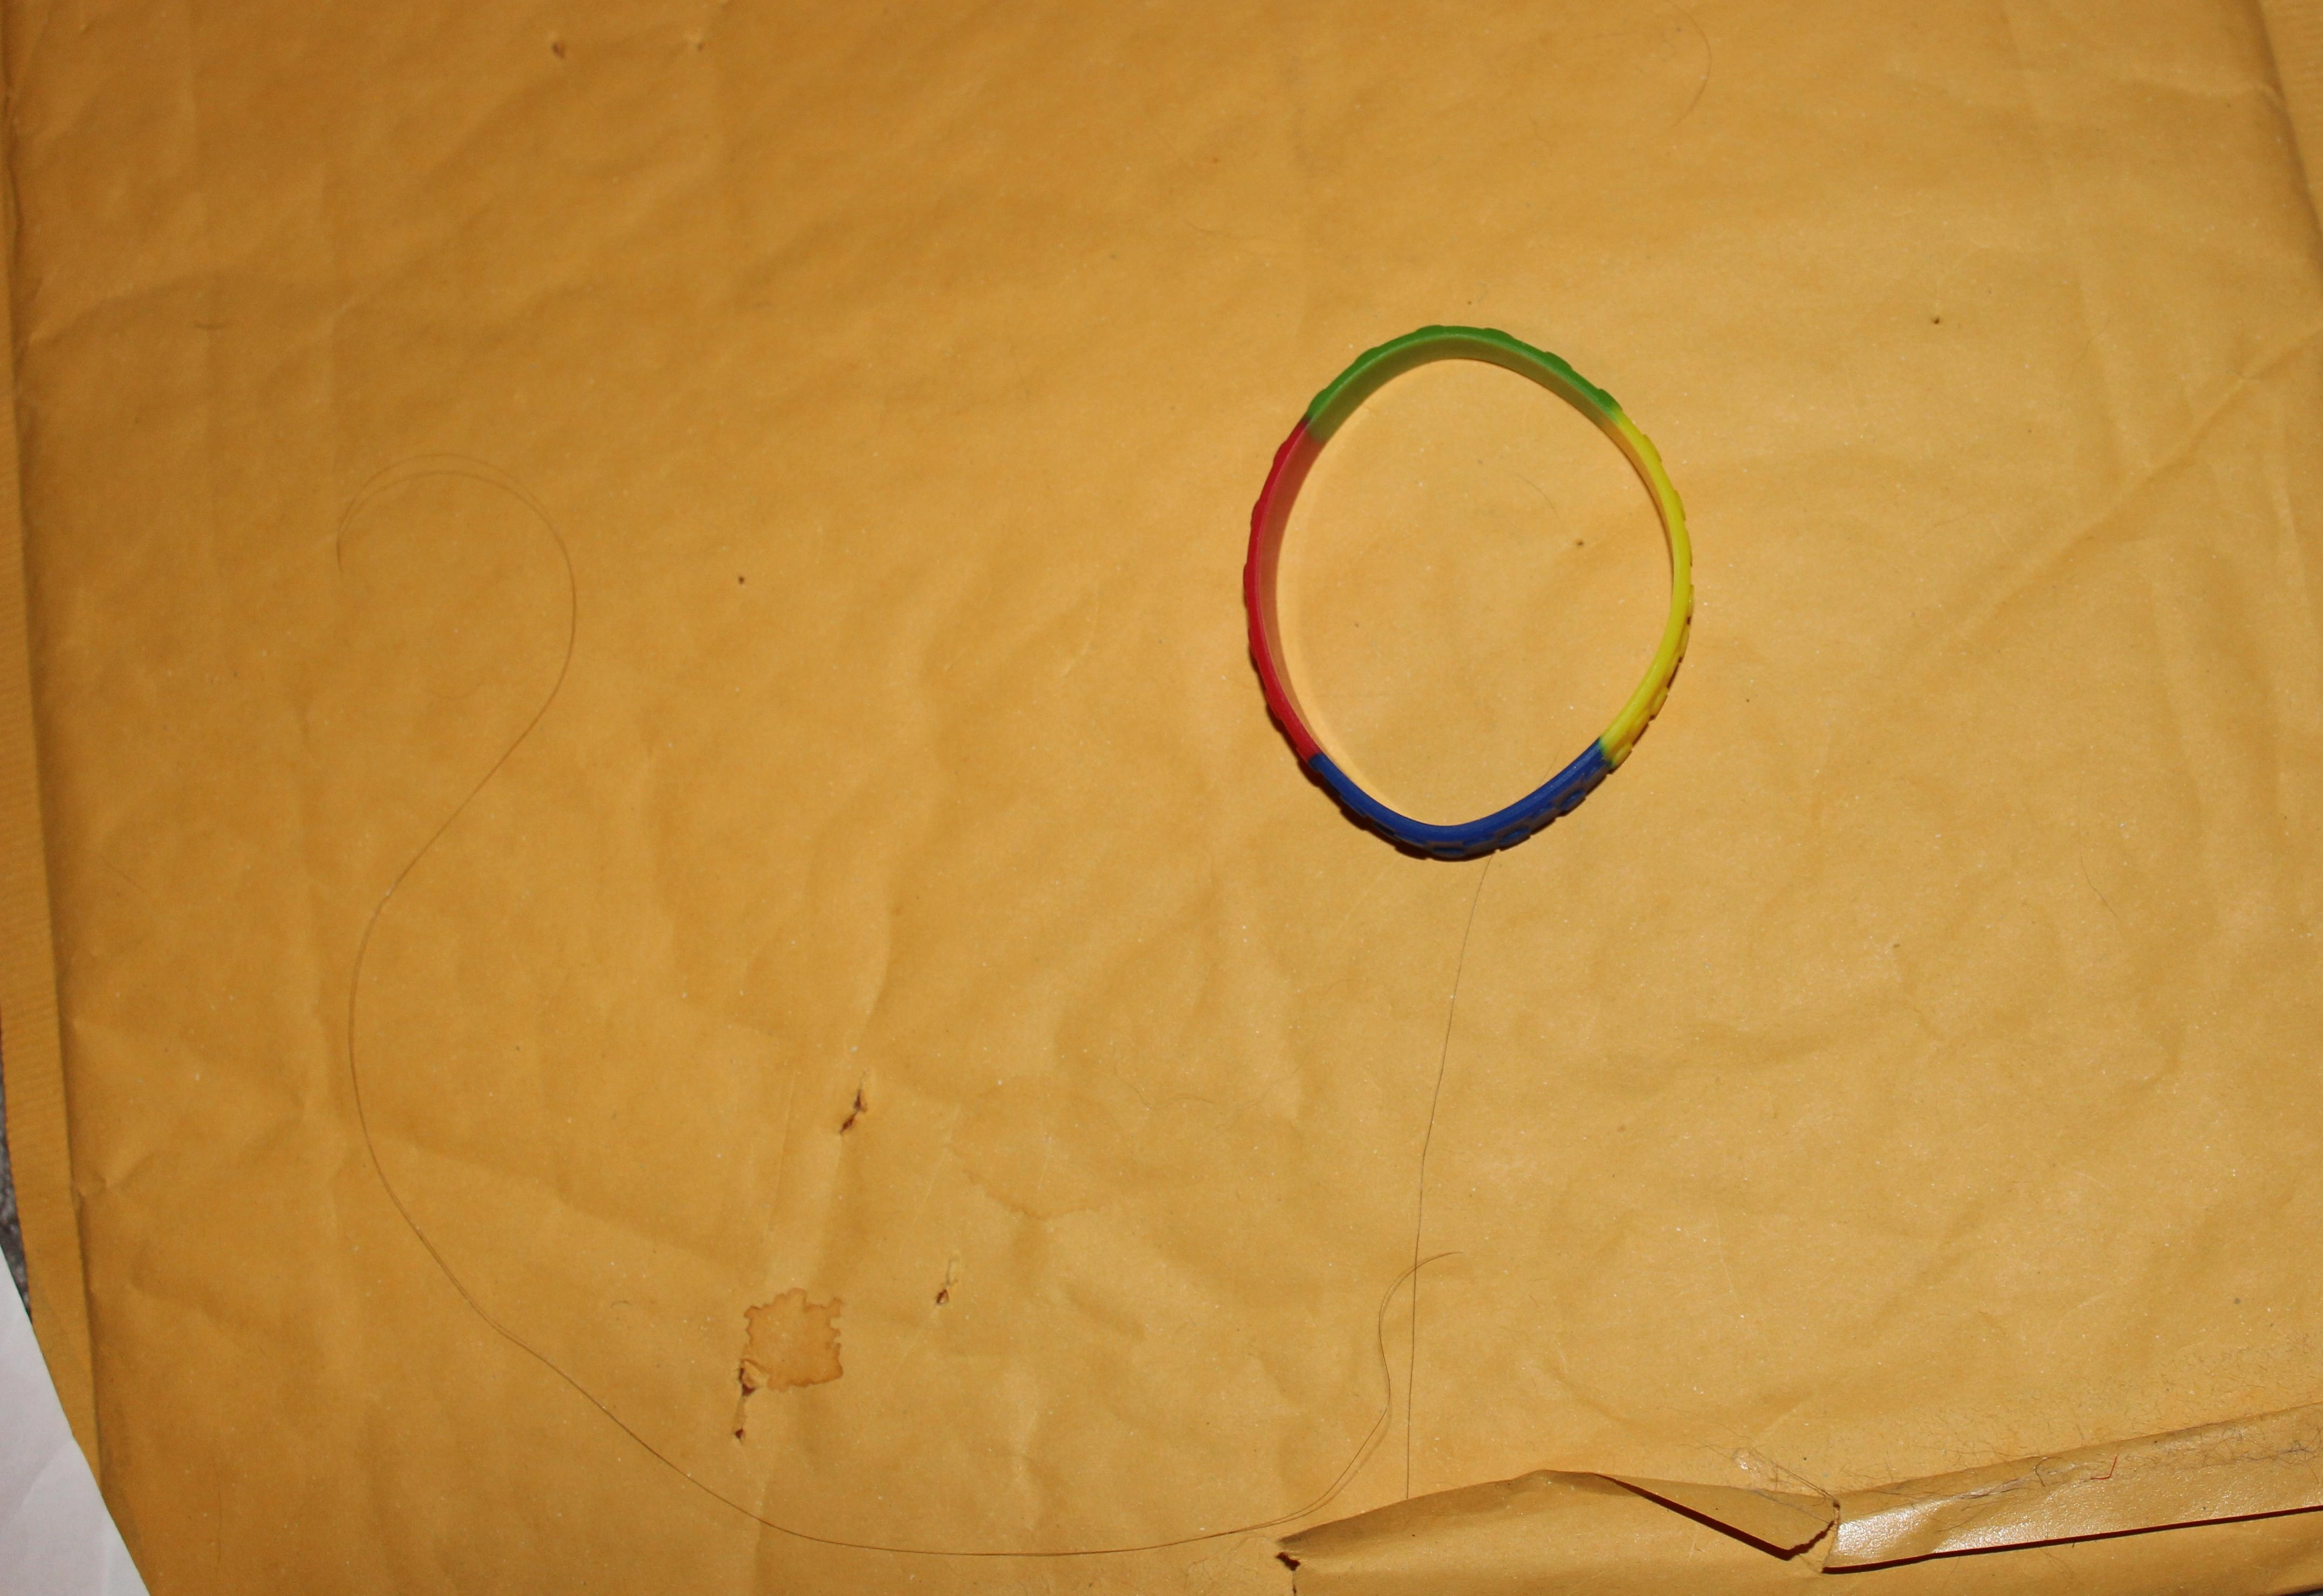legoBracelet: (1218, 300, 1730, 890)
